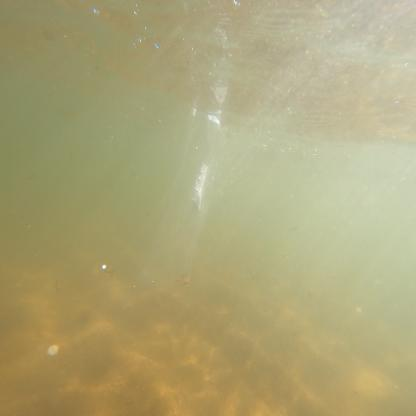Rác: (160, 96, 240, 290)
